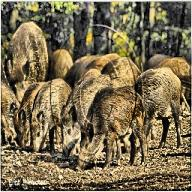boar: (1, 21, 191, 169)
